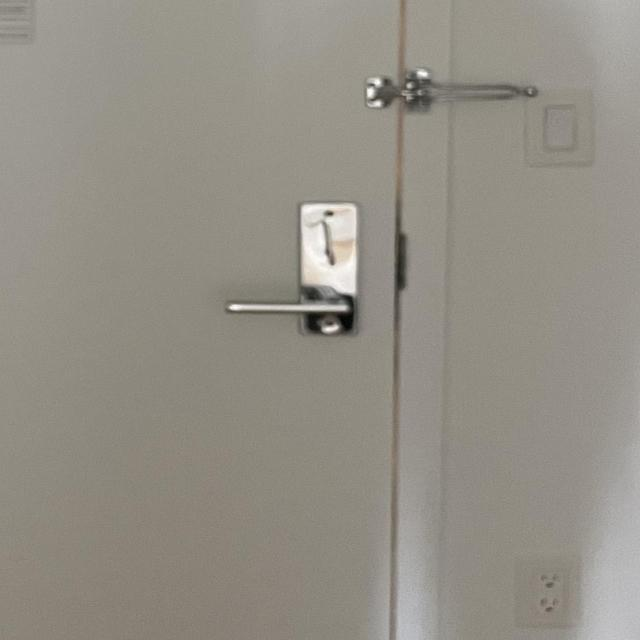door_handle: (213, 280, 367, 336)
